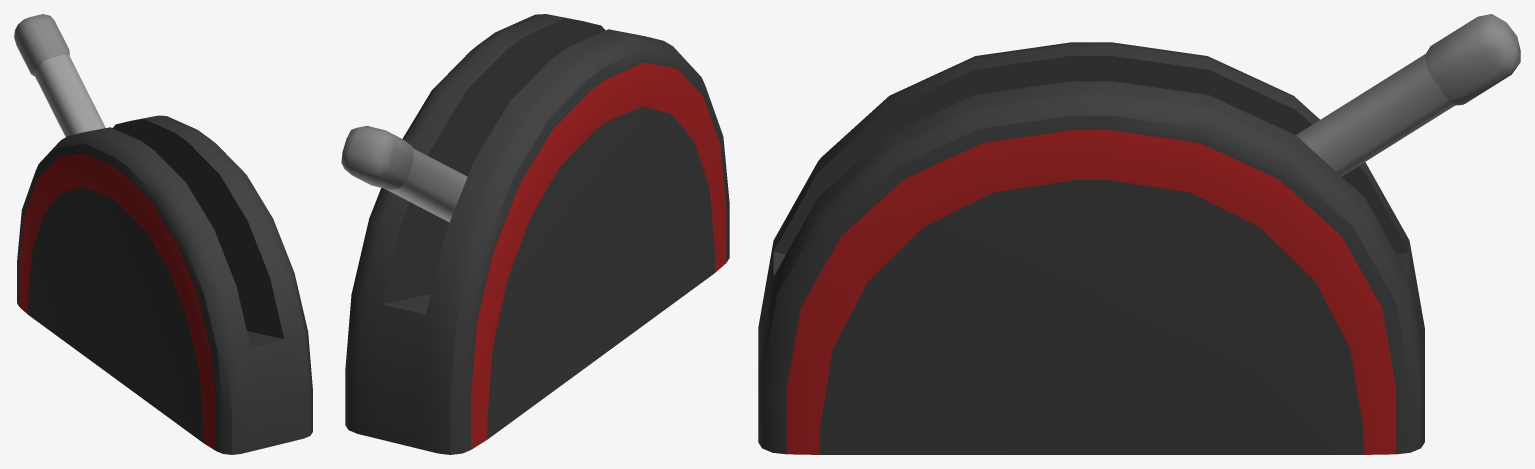
The model's file is lever_big.glb.
3 renders of one model, left to right at view 1: azimuth 30°, elevation 25°; view 2: azimuth 150°, elevation 25°; view 3: azimuth 270°, elevation 25°, orthographic. The views are drawn at different scales.
Visible parts, largest first — view 1: lever_big, lever_big_handle.001; view 2: lever_big, lever_big_handle.001; view 3: lever_big, lever_big_handle.001.
Part boxes in pixels (bbox=[...]): lever_big: bbox=[17, 115, 312, 454]; lever_big_handle.001: bbox=[14, 14, 105, 136]; lever_big: bbox=[345, 14, 729, 454]; lever_big_handle.001: bbox=[341, 126, 467, 222]; lever_big: bbox=[758, 42, 1424, 454]; lever_big_handle.001: bbox=[1296, 14, 1520, 176].
Bounding box in the file's own units: 0.0839 × 0.2102 × 0.3642.
